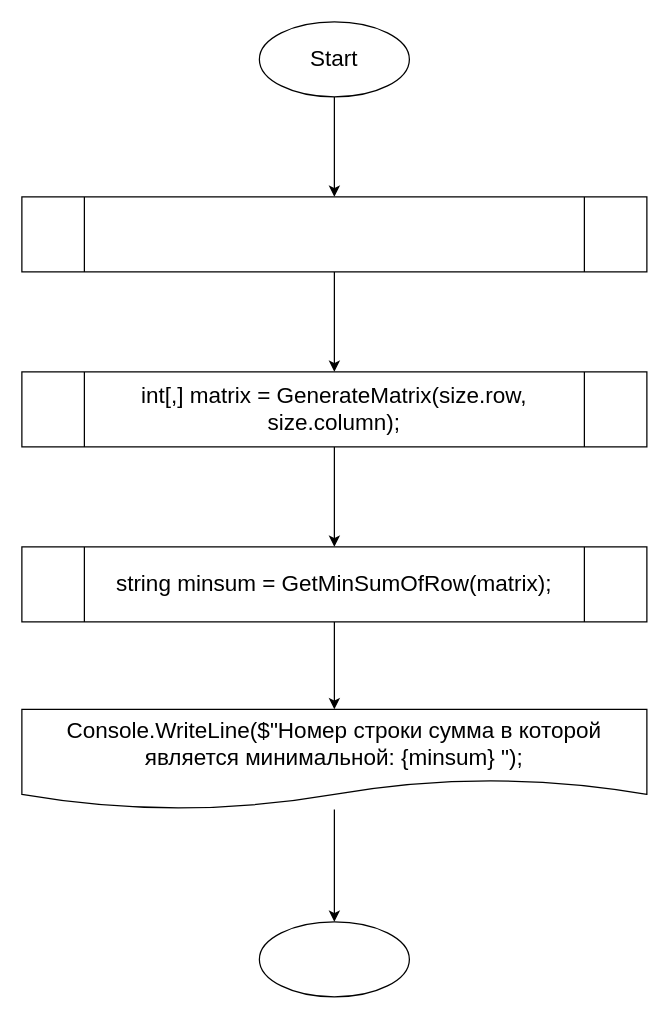
The diagram is 669 pixels wide and 1019 high, and some of its shapes have lost their labels. Each missing label, with the box of its shape:
(int row, int column) size = GetSizeByUser();: (21, 196, 647, 272)
End: (258, 921, 409, 997)
